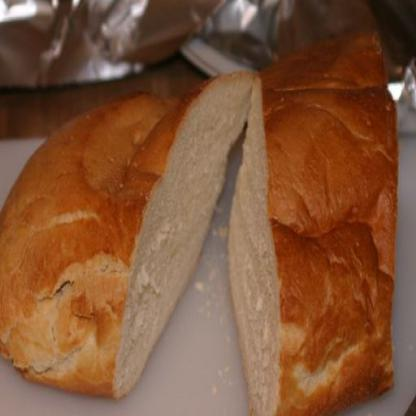knife: (272, 152, 415, 415)
